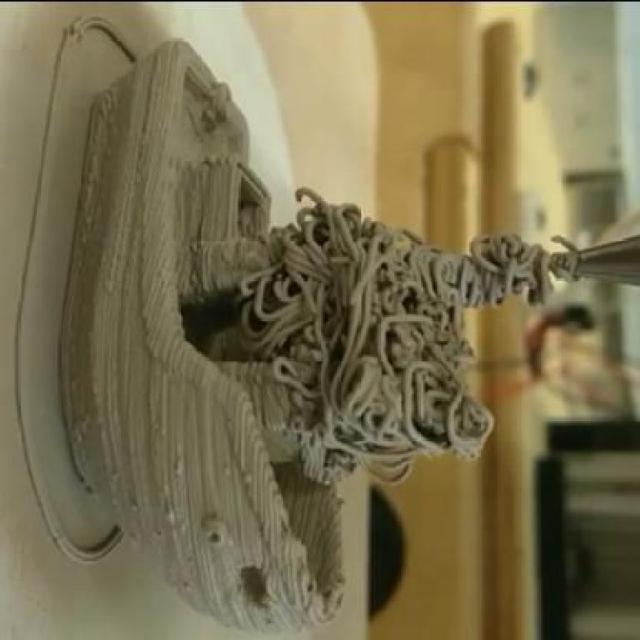spaghetti: (231, 175, 597, 496)
